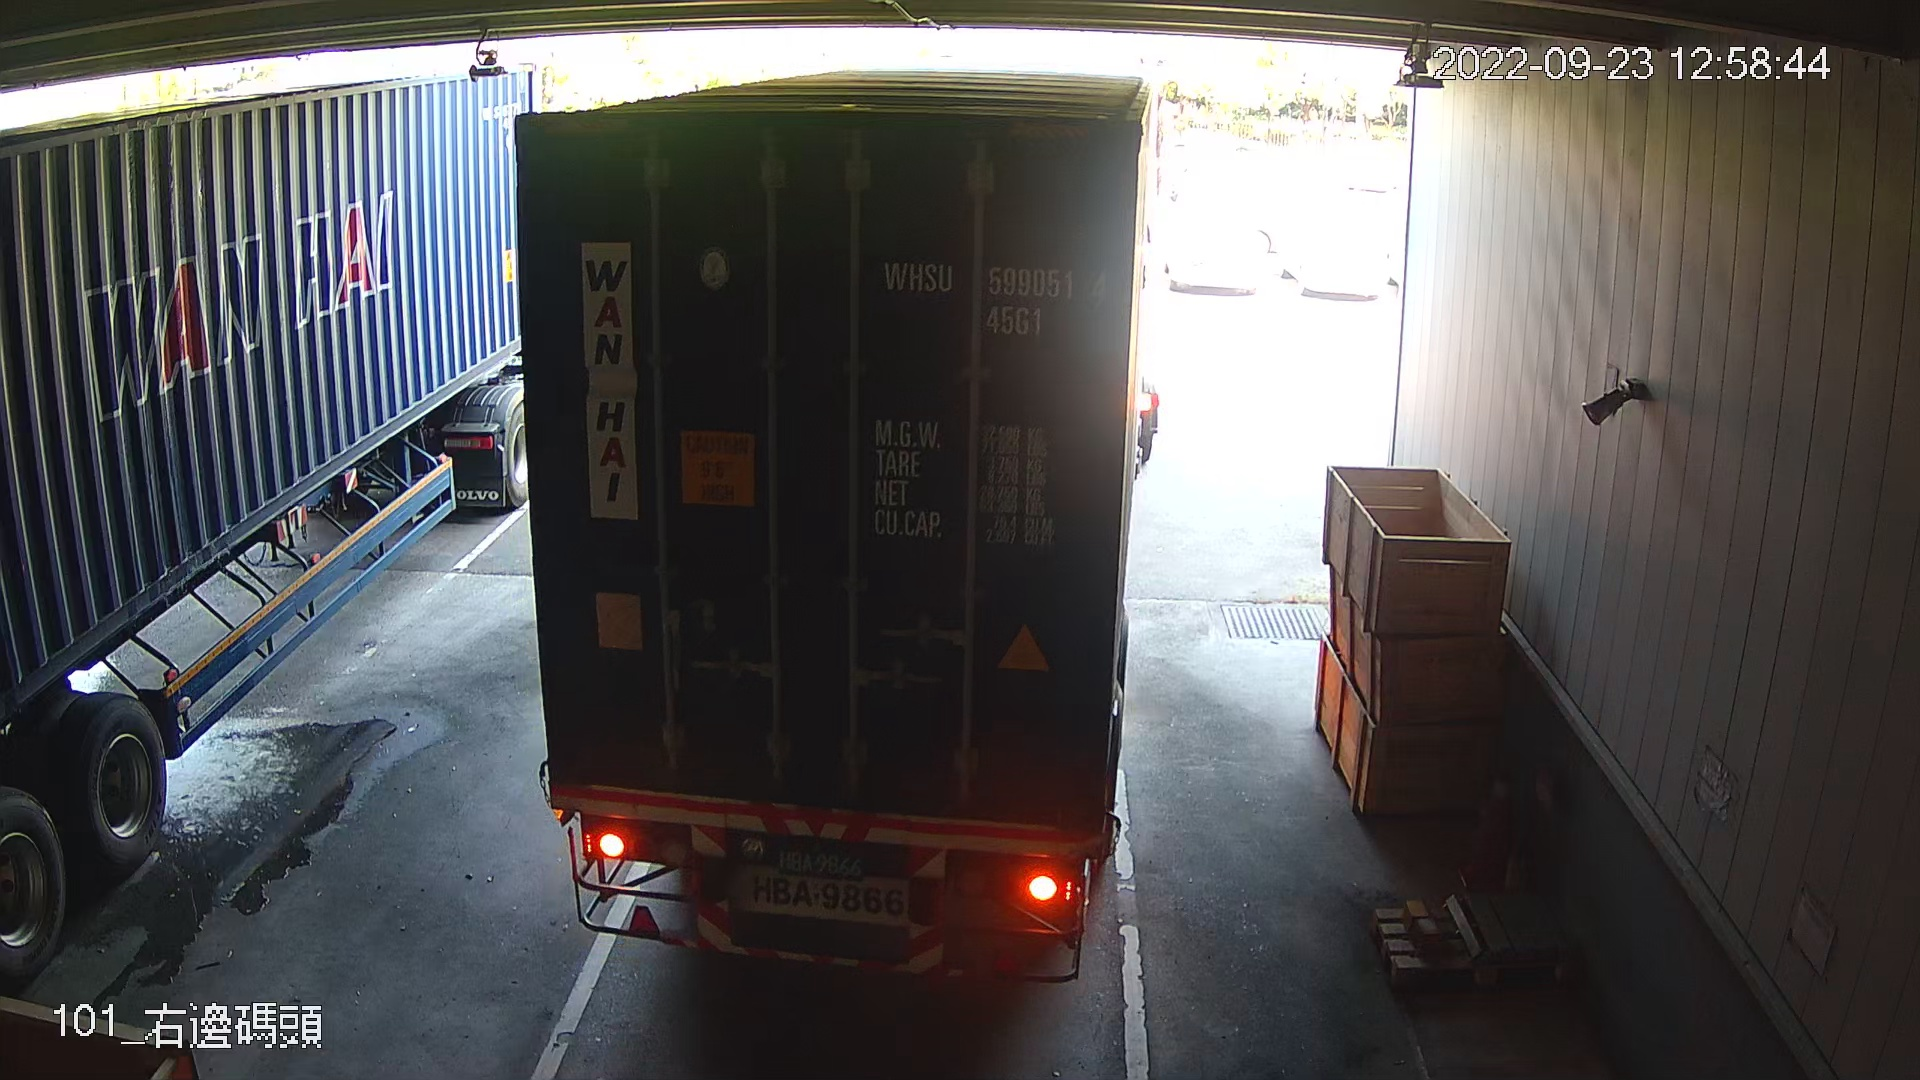container: (878, 243, 1122, 343)
